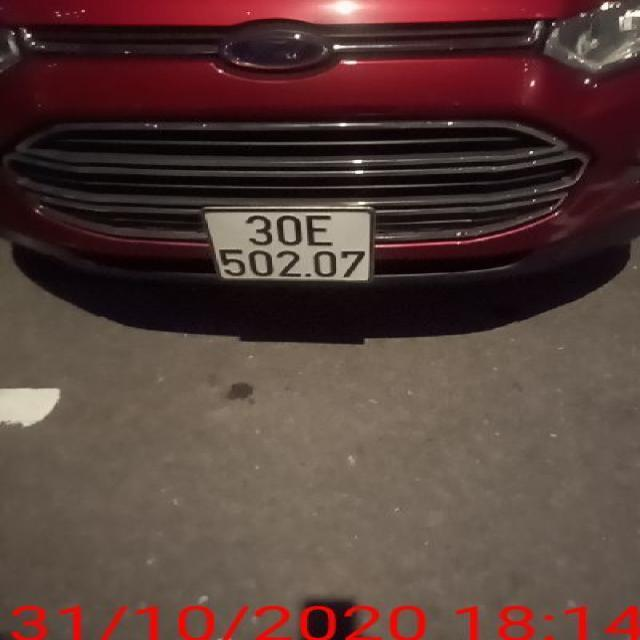bien_so_oto: (199, 205, 380, 288)
